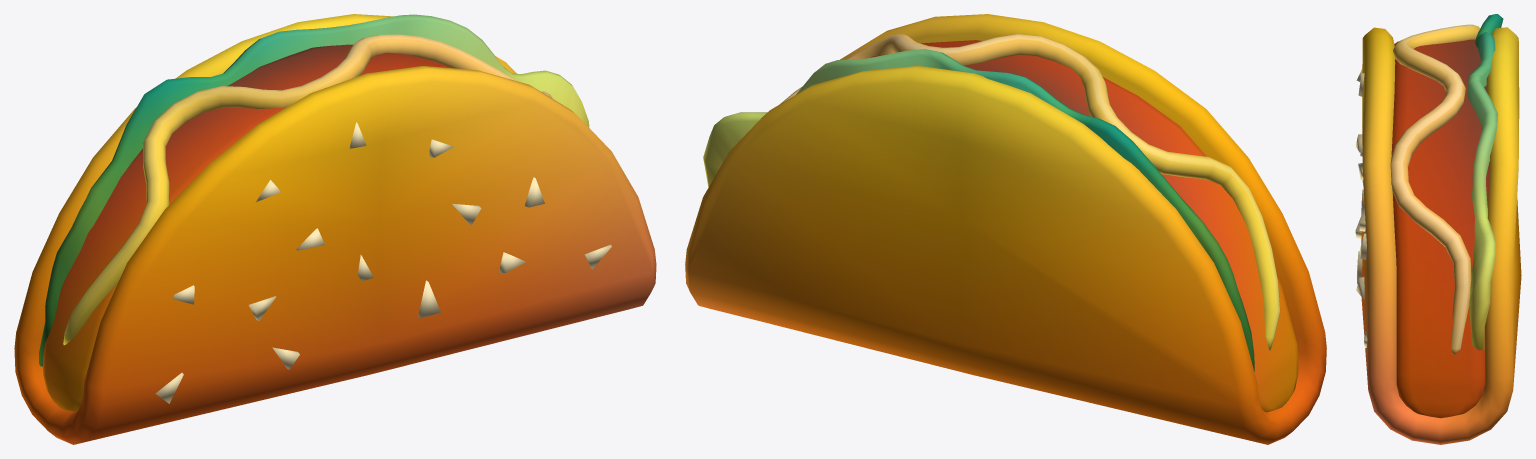
The model's file is tacos_001.fbx.
The picture shows the model from 3 angles, left to right: view 1: azimuth 30°, elevation 25°; view 2: azimuth 150°, elevation 25°; view 3: azimuth 270°, elevation 25°; orthographic projection. The views are drawn at different scales.
Visible parts, largest first — view 1: tacos_001; view 2: tacos_001; view 3: tacos_001.
Part boxes in pixels (left/top/right/bottom): tacos_001: left=14, top=14, right=656, bottom=444; tacos_001: left=685, top=14, right=1326, bottom=444; tacos_001: left=1355, top=14, right=1521, bottom=444.
Size of the model in its own units: 17.16 by 5.01 by 9.26.
